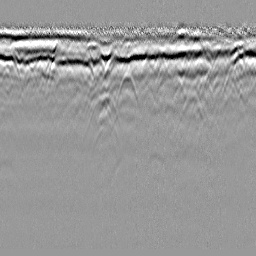cavity: (114, 71, 139, 106)
